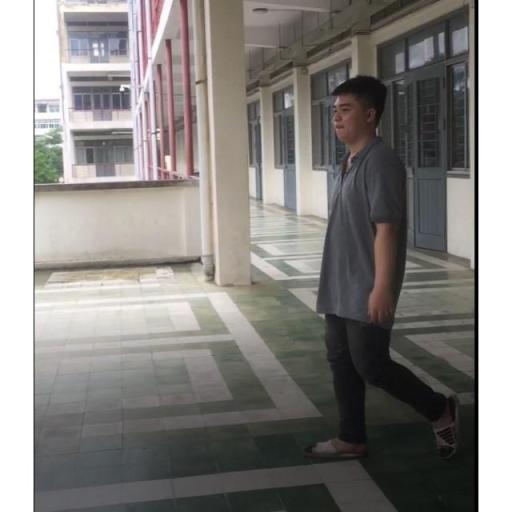Running: (296, 68, 467, 471)
